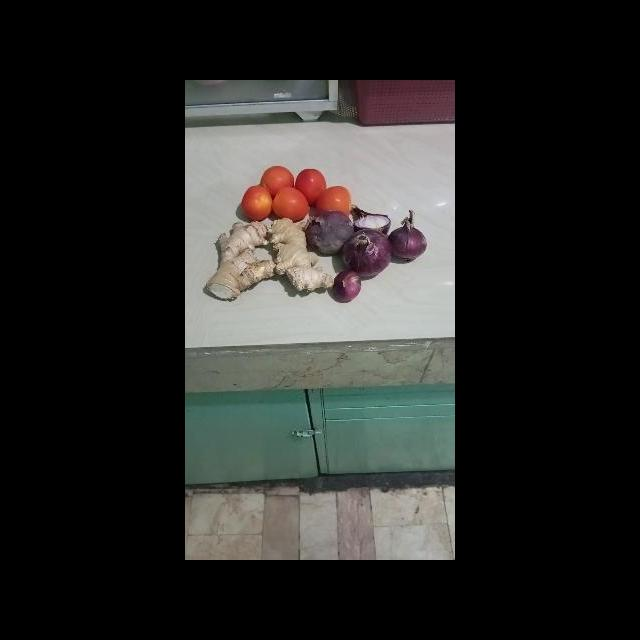ginger: (206, 219, 279, 302), (267, 217, 335, 293)
onion: (341, 228, 390, 276), (303, 211, 353, 256), (386, 209, 428, 261), (350, 201, 392, 237), (332, 267, 362, 303)
